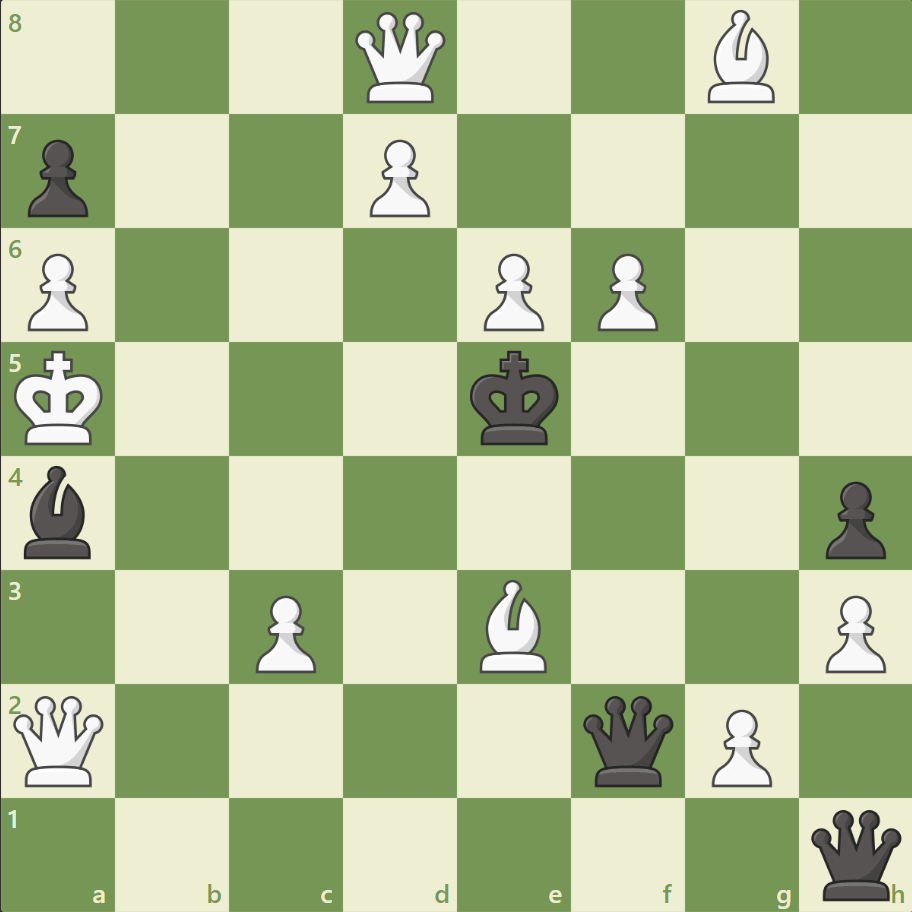B: (698, 6, 782, 109), (471, 574, 555, 676)
K: (11, 344, 111, 452)
P: (20, 246, 95, 337), (474, 246, 549, 337), (247, 586, 322, 677), (701, 700, 776, 791), (361, 132, 435, 223), (588, 246, 662, 337), (815, 586, 889, 677)
Q: (351, 9, 450, 108), (10, 690, 109, 789)
b: (17, 460, 101, 563)
k: (465, 344, 565, 452)
p: (20, 132, 95, 223), (815, 473, 889, 564)
q: (578, 690, 677, 789), (805, 804, 904, 903)
